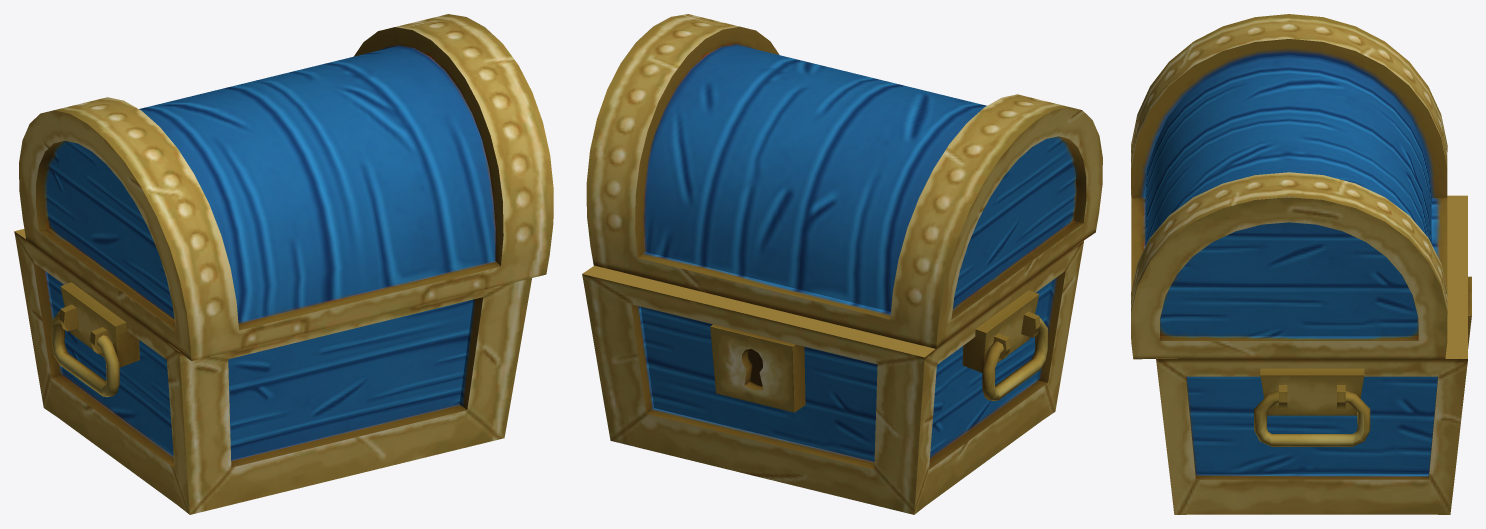
The model's file is pruebaalphabet.glb.
3 renders of one model, left to right at view 1: azimuth 30°, elevation 25°; view 2: azimuth 150°, elevation 25°; view 3: azimuth 270°, elevation 25°, orthographic. The views are drawn at different scales.
Visible parts, largest first — view 1: Tapa, Caja; view 2: Tapa, Caja; view 3: Tapa, Caja.
Boxes of the visible parts, x1=… form: Tapa: x1=19, y1=14, x2=553, y2=360; Caja: x1=14, y1=229, x2=531, y2=514; Tapa: x1=586, y1=14, x2=1102, y2=348; Caja: x1=582, y1=240, x2=1083, y2=514; Tapa: x1=1131, y1=14, x2=1447, y2=359; Caja: x1=1156, y1=195, x2=1471, y2=514.
Size of the model in its own units: 5.62 by 4.82 by 4.42.
Materials: 3 (2 with a texture image).
